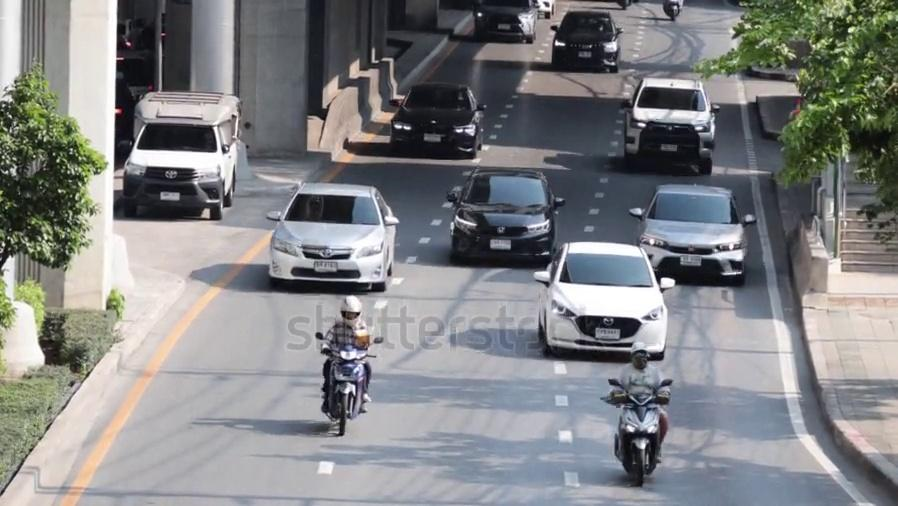rider: (609, 340, 671, 462), (317, 294, 377, 414)
with_helmate: (337, 294, 364, 324), (627, 340, 651, 369)
